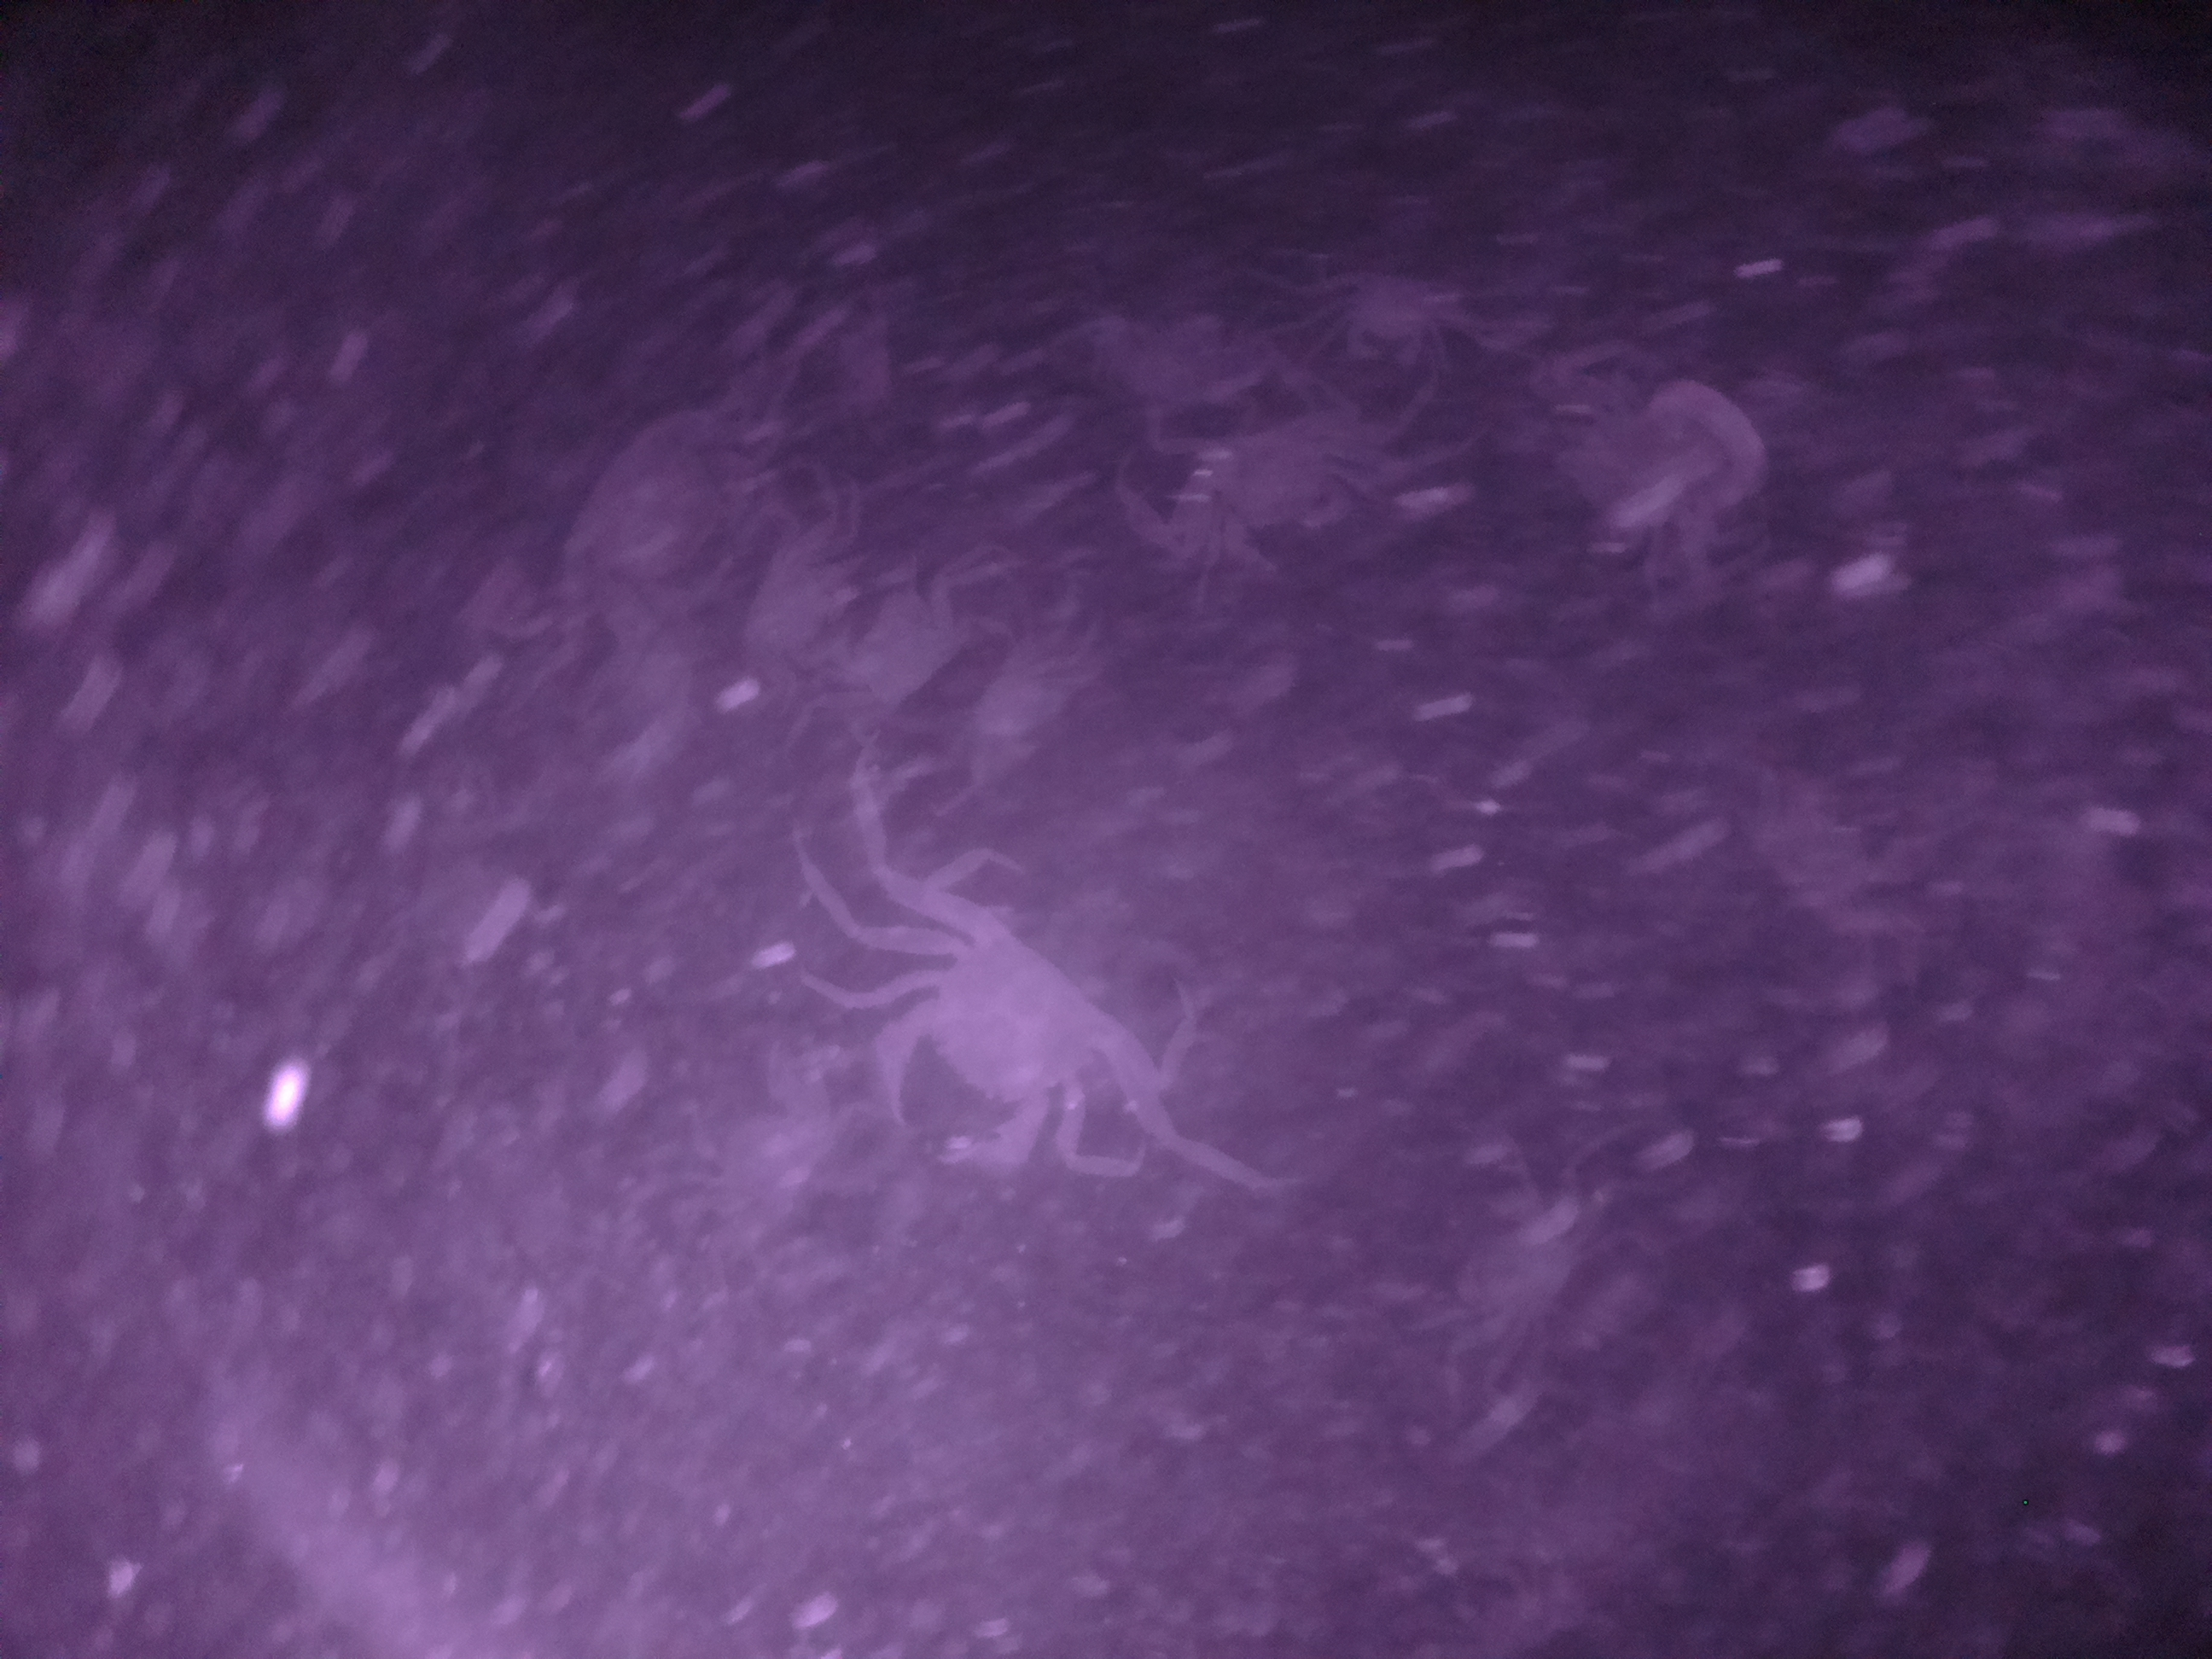Crab: (833, 857, 1157, 1190)
